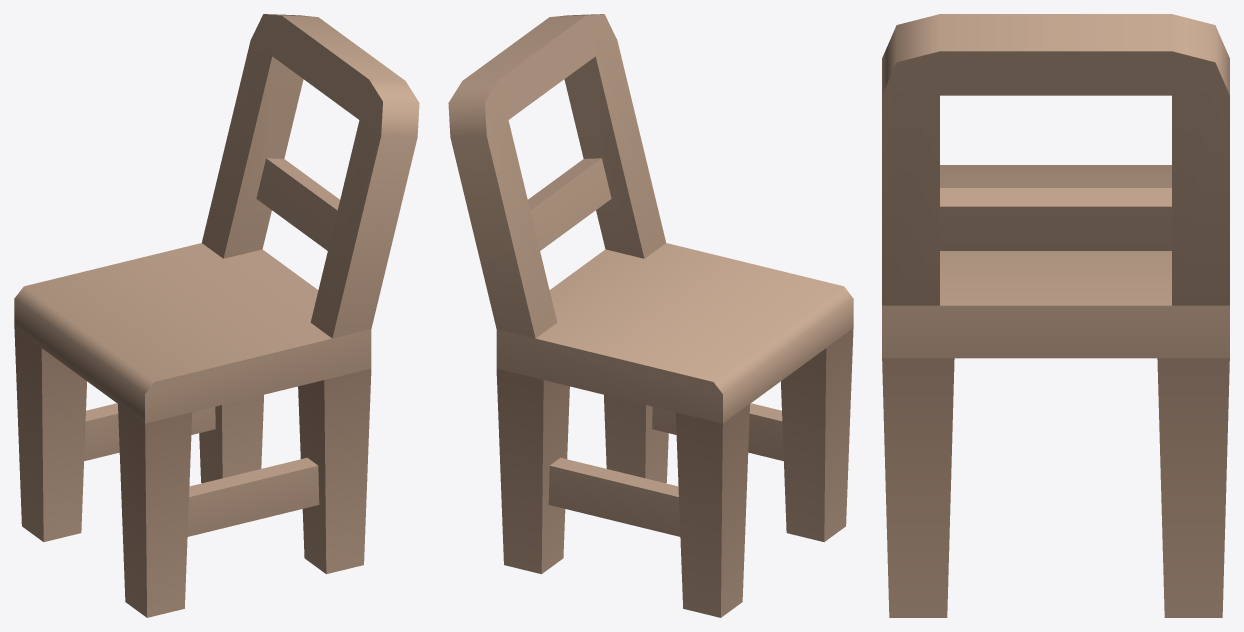
The model's file is wooden-chair.glb.
3 views of the same model, side by side, from view 1: azimuth 30°, elevation 25°; view 2: azimuth 150°, elevation 25°; view 3: azimuth 270°, elevation 25° (orthographic). The views are drawn at different scales.
Visible parts, largest first — view 1: wooden-chair; view 2: wooden-chair; view 3: wooden-chair.
Boxes of the visible parts, x1,y1,x2,y2 form: wooden-chair: [14, 14, 419, 617]; wooden-chair: [448, 14, 853, 617]; wooden-chair: [882, 14, 1229, 617].
Bounding box in the file's own units: 0.449 × 0.7077 × 0.36.
